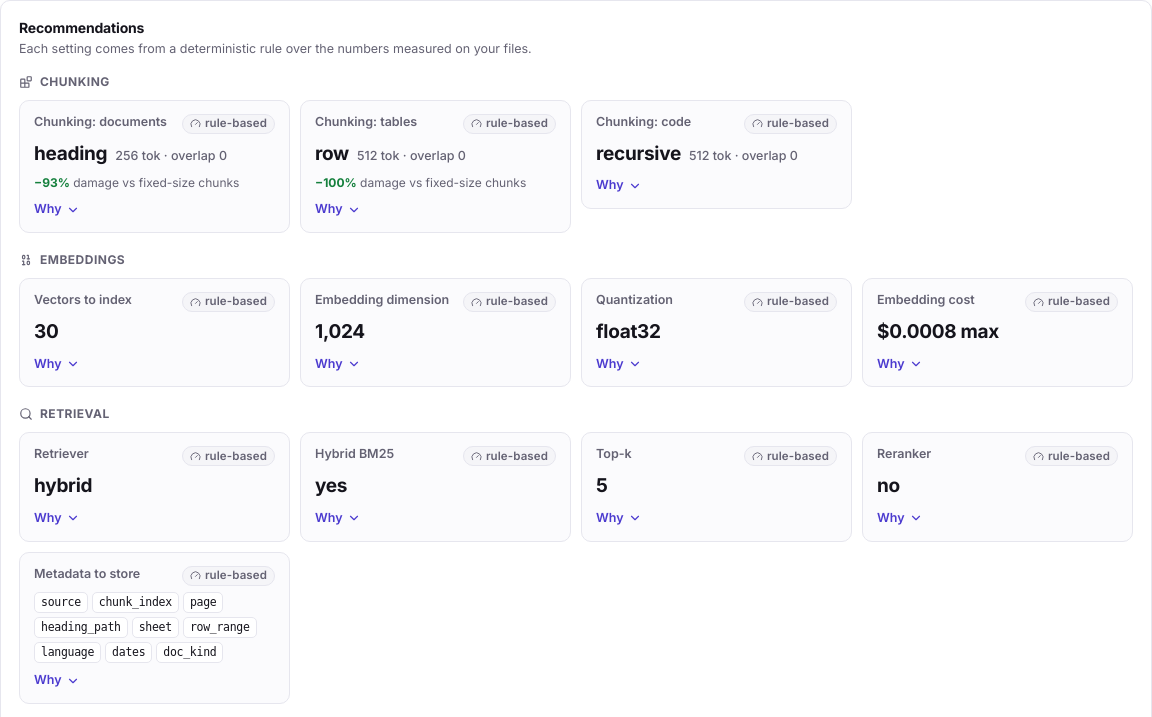
it: Recommendations › shows each setting with its basis and expands the reason on demand
Check: the text "rule-based" next to "Chunking: documents" is shown, box [205,116,267,130]
Click the button "Why" below "93" at (57, 210), box [34,198,80,221]
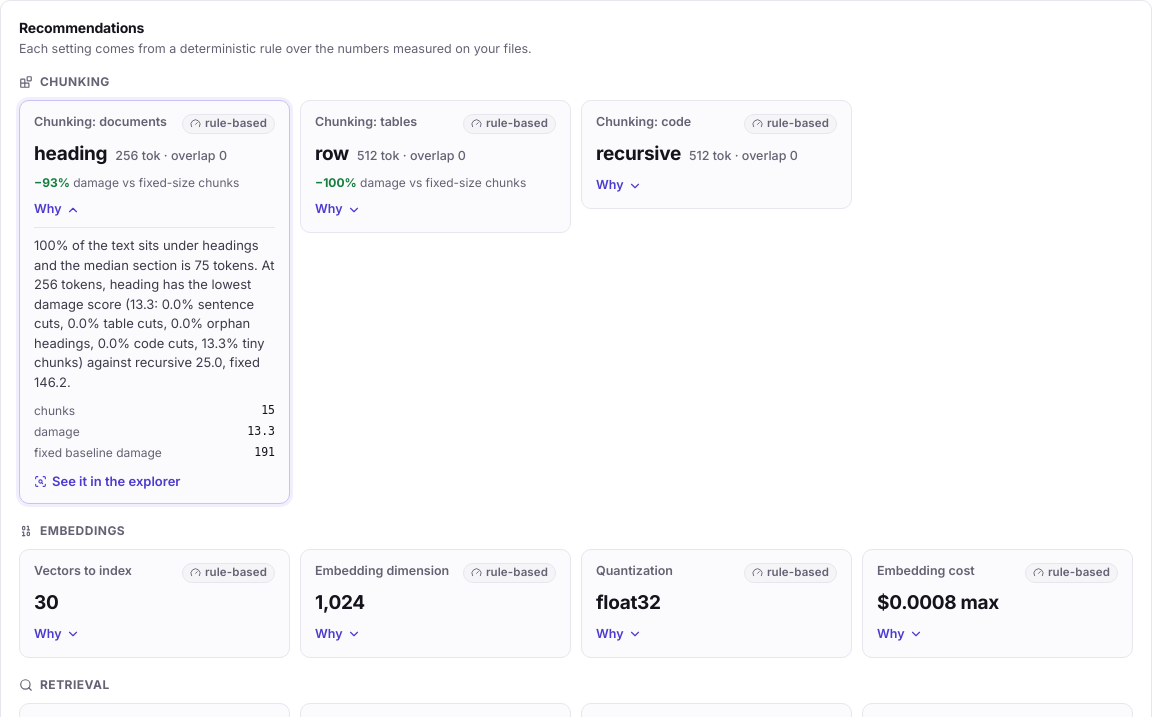
Check: the button "Why" below "93" is expanded, box [34,198,80,221]
Check: the text "100% of the text sits under headings and the median section is 75 tokens. At 256 tokens, heading has the lowest damage s" is shown, box [34,237,274,390]
